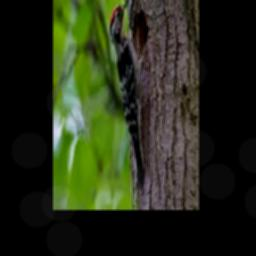Woodpecker: (110, 0, 148, 192)
